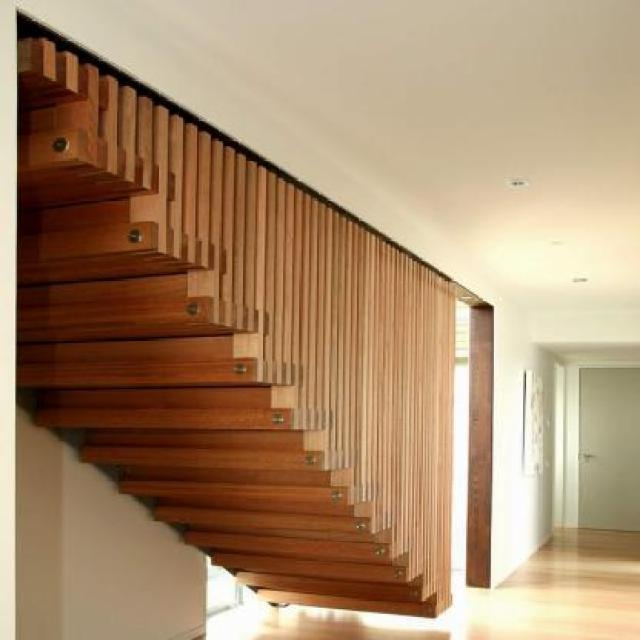stair: (32, 89, 470, 634)
